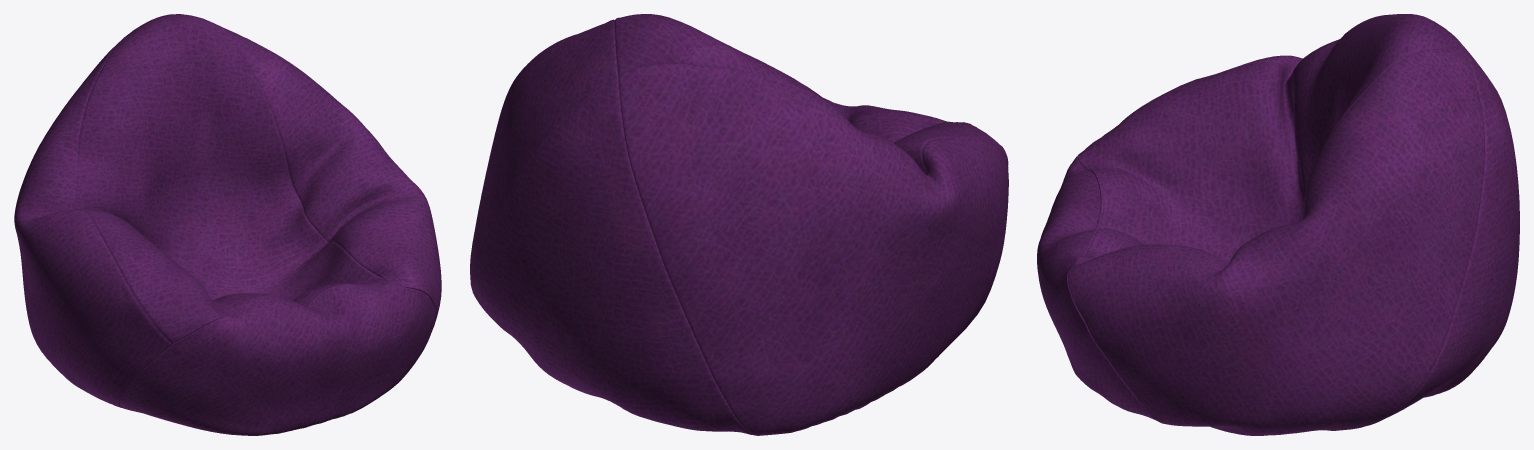
Rendered from fushia_bean_bag.glb.
3 views of the same model, side by side, from view 1: azimuth 30°, elevation 25°; view 2: azimuth 150°, elevation 25°; view 3: azimuth 270°, elevation 25° (orthographic). The views are drawn at different scales.
Visible parts, largest first — view 1: bean_bag_chair_mesh_n3d; view 2: bean_bag_chair_mesh_n3d; view 3: bean_bag_chair_mesh_n3d.
Part boxes in pixels (x1,y1,x2,y2): bean_bag_chair_mesh_n3d: (14, 14, 441, 435); bean_bag_chair_mesh_n3d: (470, 14, 1008, 435); bean_bag_chair_mesh_n3d: (1037, 14, 1519, 435).
Size of the model in its own units: 1.29 by 1 by 1.3.
1 material, 1 textured.
